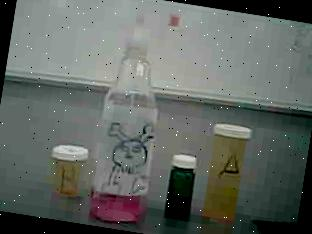Bottle A: (193, 115, 256, 234)
Bottle B: (40, 128, 96, 204)
Bottle C: (159, 147, 204, 222)
hazard: (77, 1, 188, 229)
